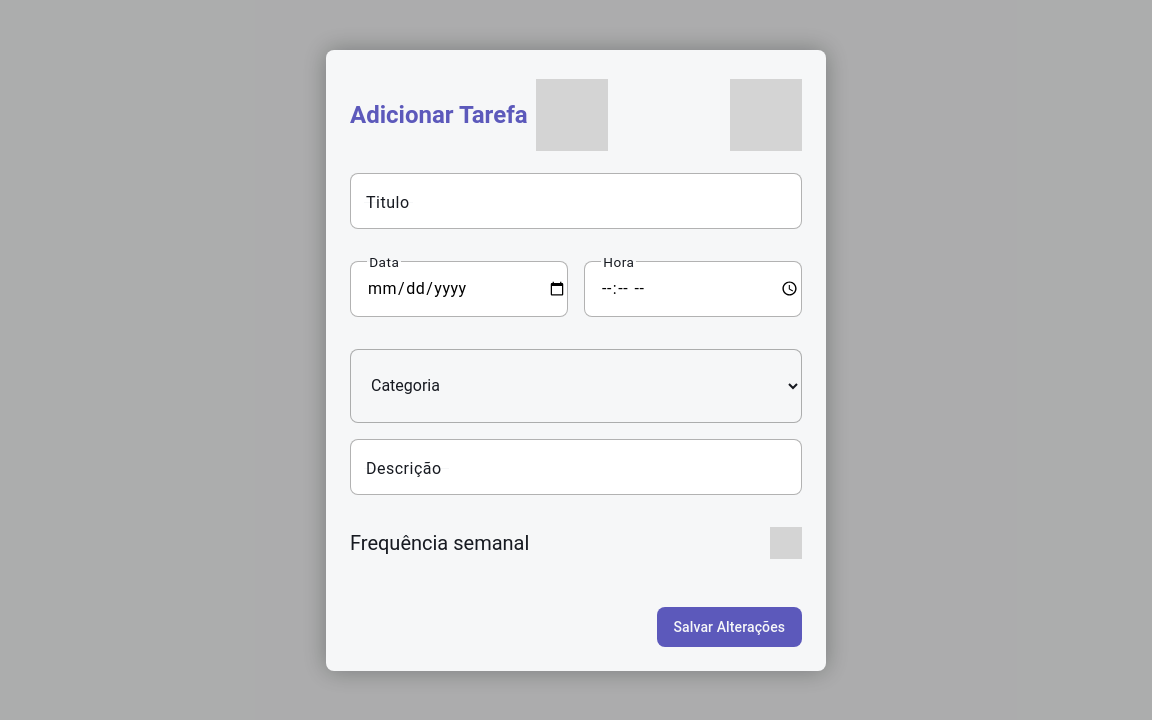
it: <TaskForm/> › should render error message for past date
The image size is (1152, 720).
Step 1. Type "teste" into the field labelled "Titulo" → (576, 200), box [350, 172, 802, 228]
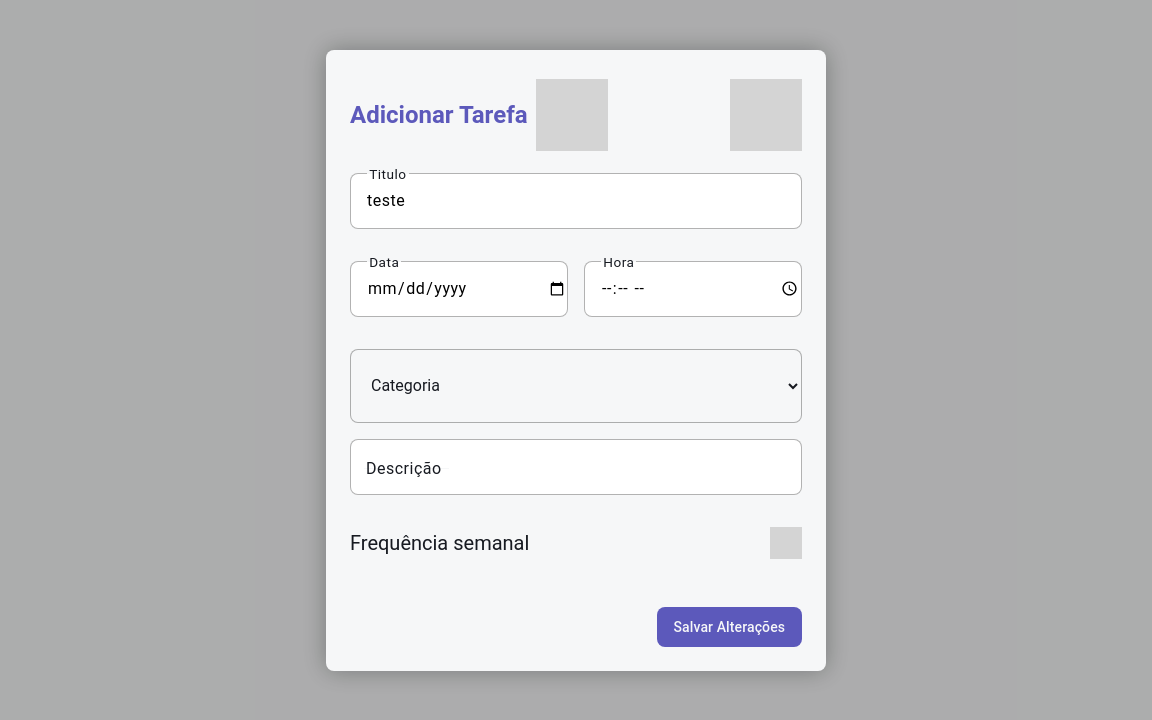
Step 2. Type "2022-01-01" into the field labelled "Data" → (459, 288), box [350, 260, 568, 316]
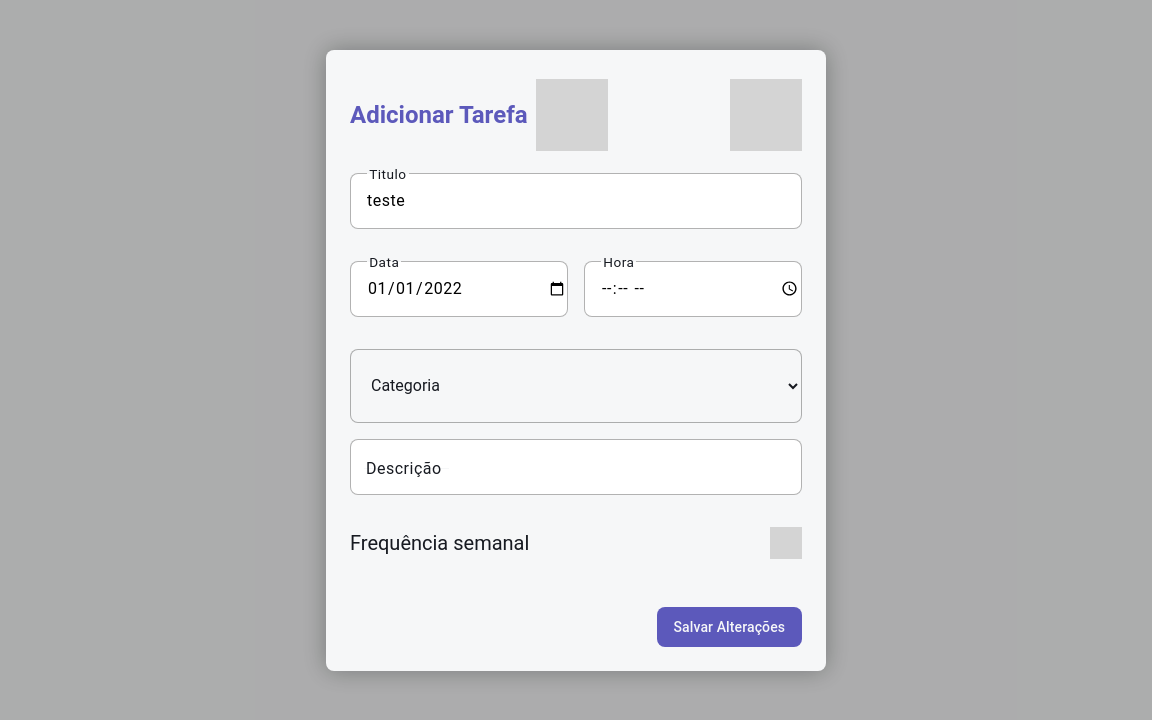
Step 3. Type "10:00" into the field labelled "Hora" → (693, 288), box [584, 260, 802, 316]
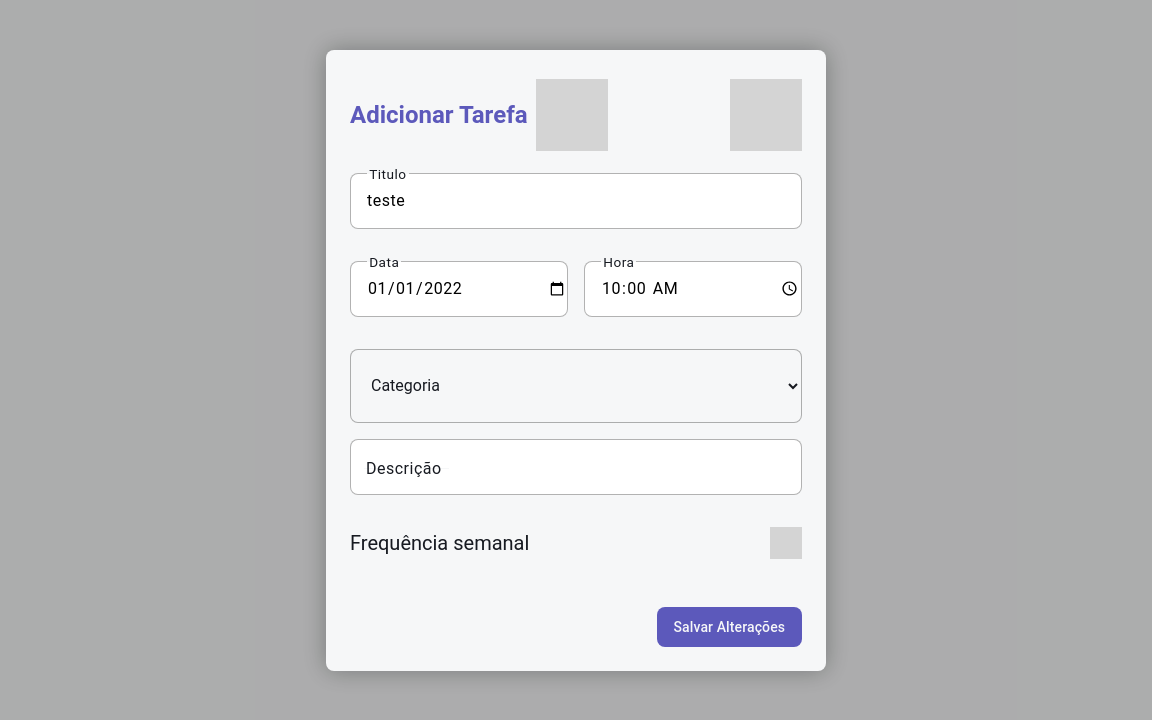
Step 4. Select "Carreira" in the dropdown → (576, 386), box [350, 348, 802, 422]
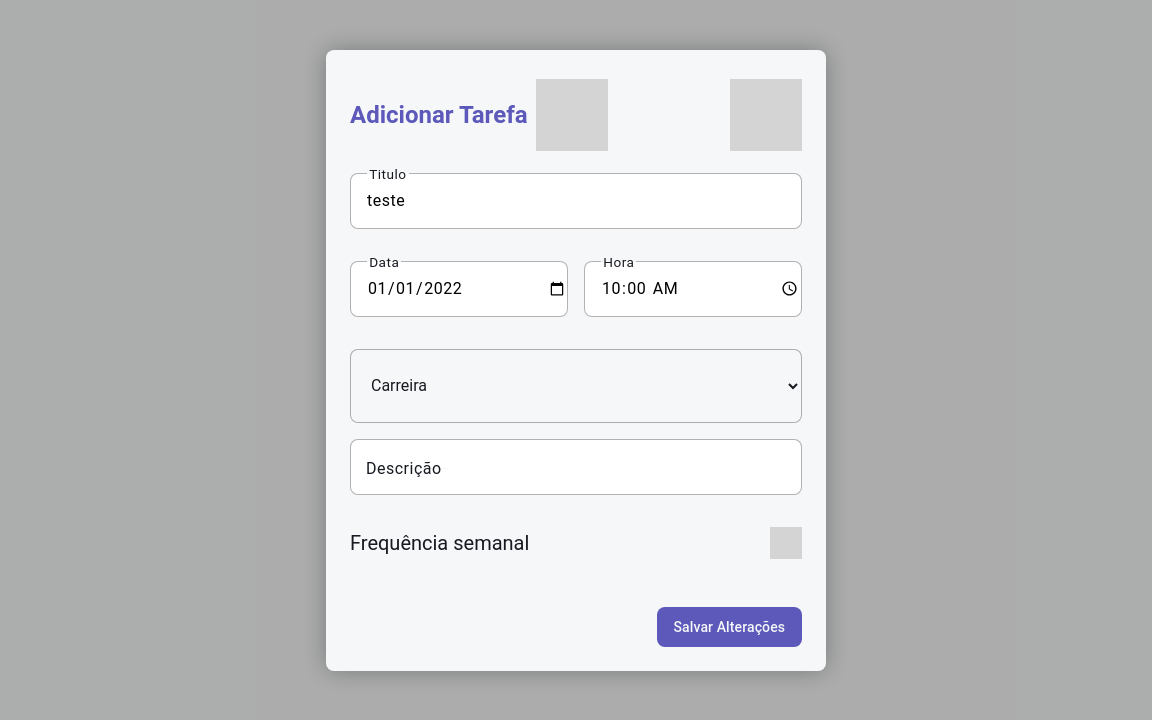
Step 5. Type "teste" into the field with placeholder "Descrição" → (576, 466), box [350, 438, 802, 494]
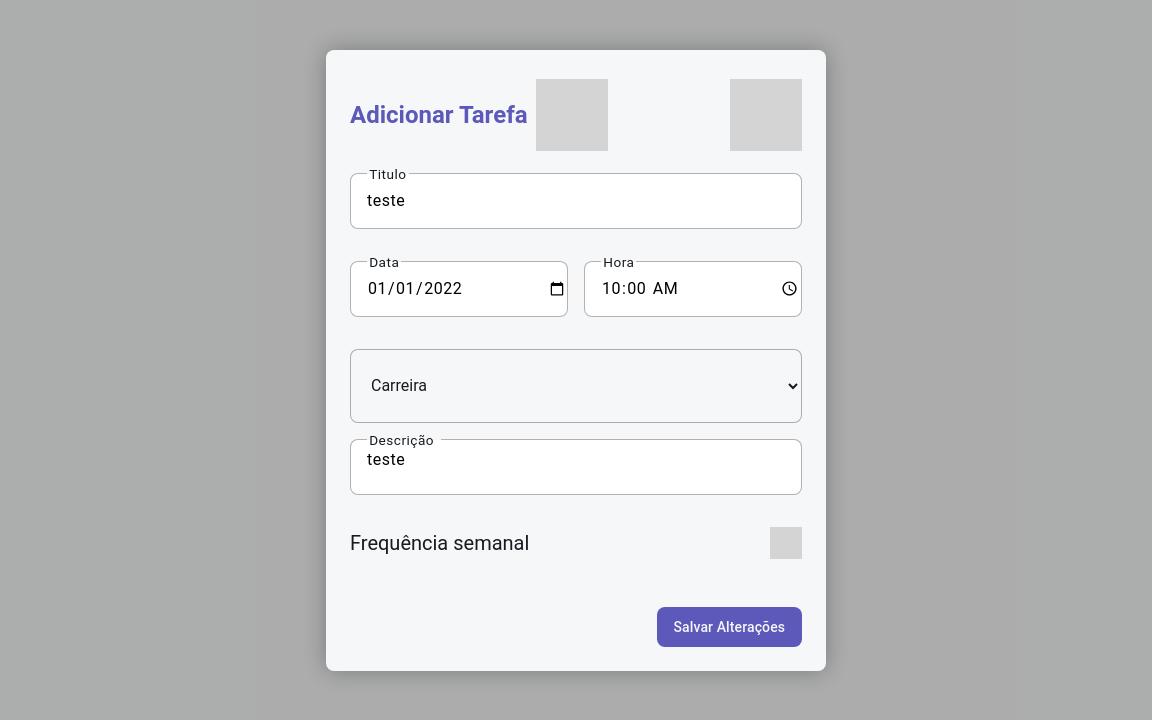
Step 6. Click the button "Salvar Alterações" → click(729, 626), box [657, 606, 802, 646]
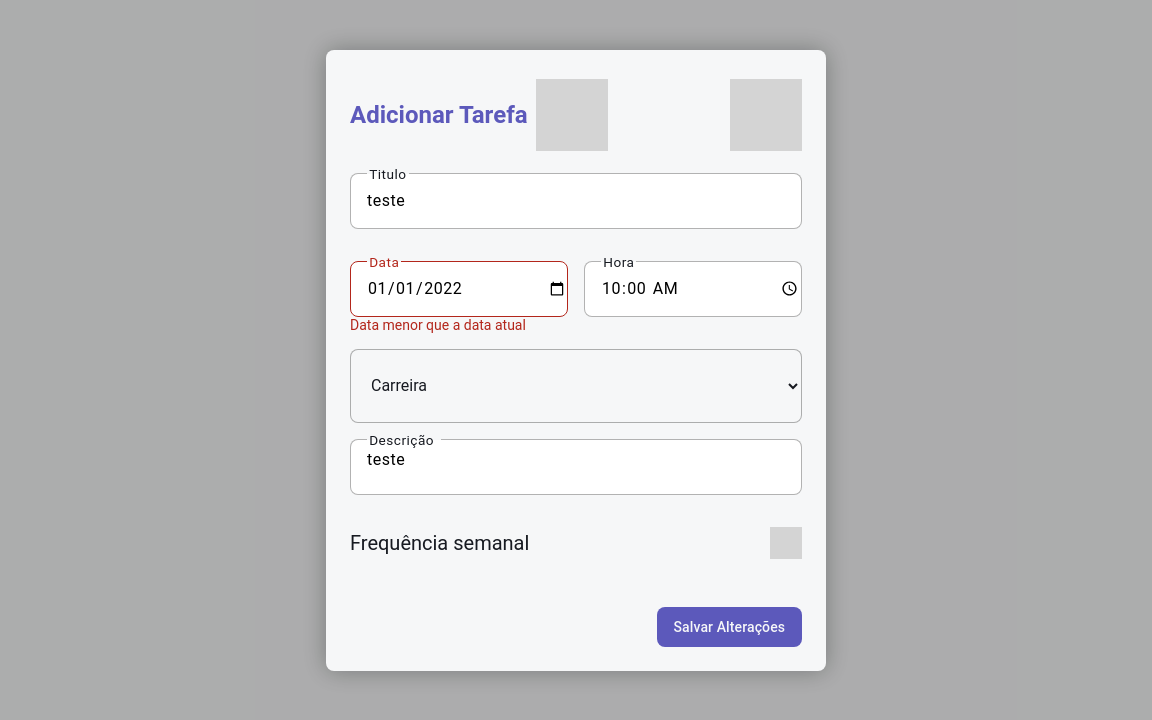
Check: the text "Data menor que a data atual" is shown, box [350, 316, 526, 332]
